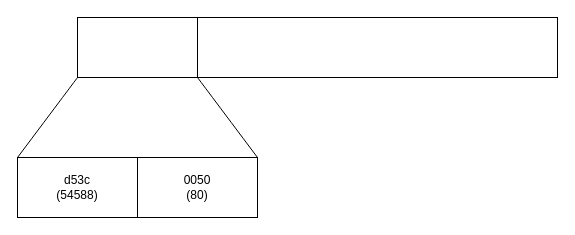
Image size: 575x235. Some labels were removed from this diagram. Each missing label, with the centre of its shape:
"cabecera TCP" belongs at pixel 137 47.
"empty" belongs at pixel 377 47.
